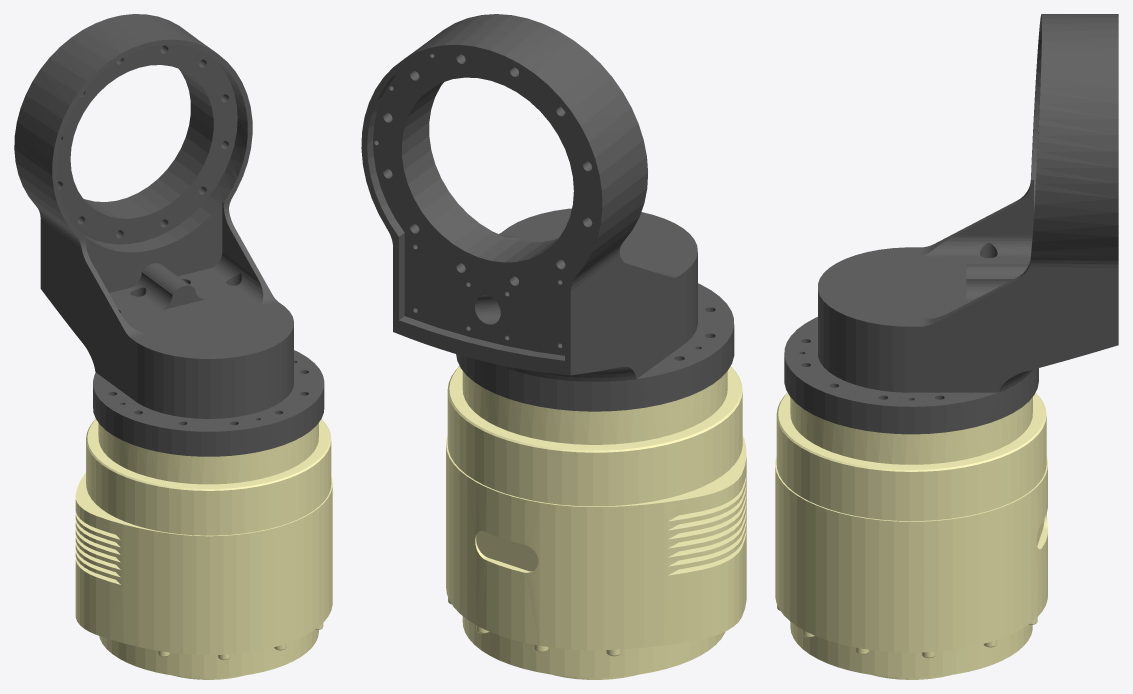
The picture shows the model from 3 angles, left to right: view 1: azimuth 30°, elevation 25°; view 2: azimuth 150°, elevation 25°; view 3: azimuth 270°, elevation 25°; orthographic projection. The views are drawn at different scales.
Parts seen in each view (by area): view 1: link5; view 2: link5; view 3: link5.
Boxes of the visible parts, x1,y1,x2,y2 form: link5: (14, 14, 332, 679); link5: (361, 14, 746, 679); link5: (775, 14, 1118, 679).
Bounding box in the file's own units: 0.0953 × 0.1133 × 0.2265.
